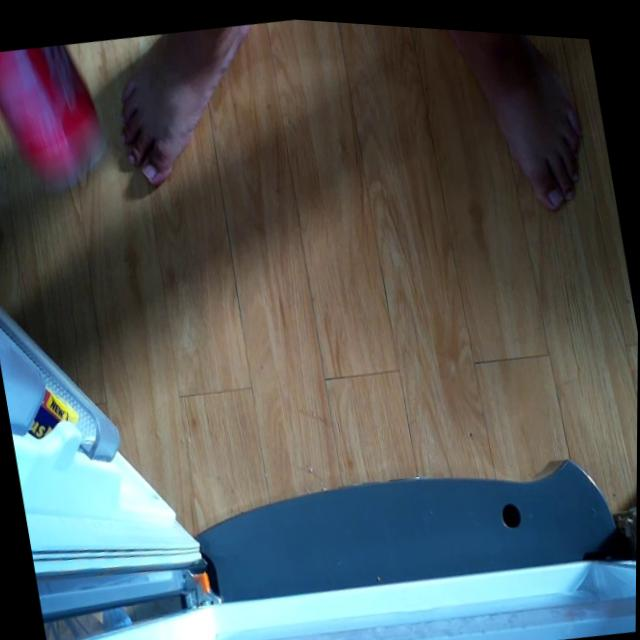coke: (0, 35, 117, 194)
